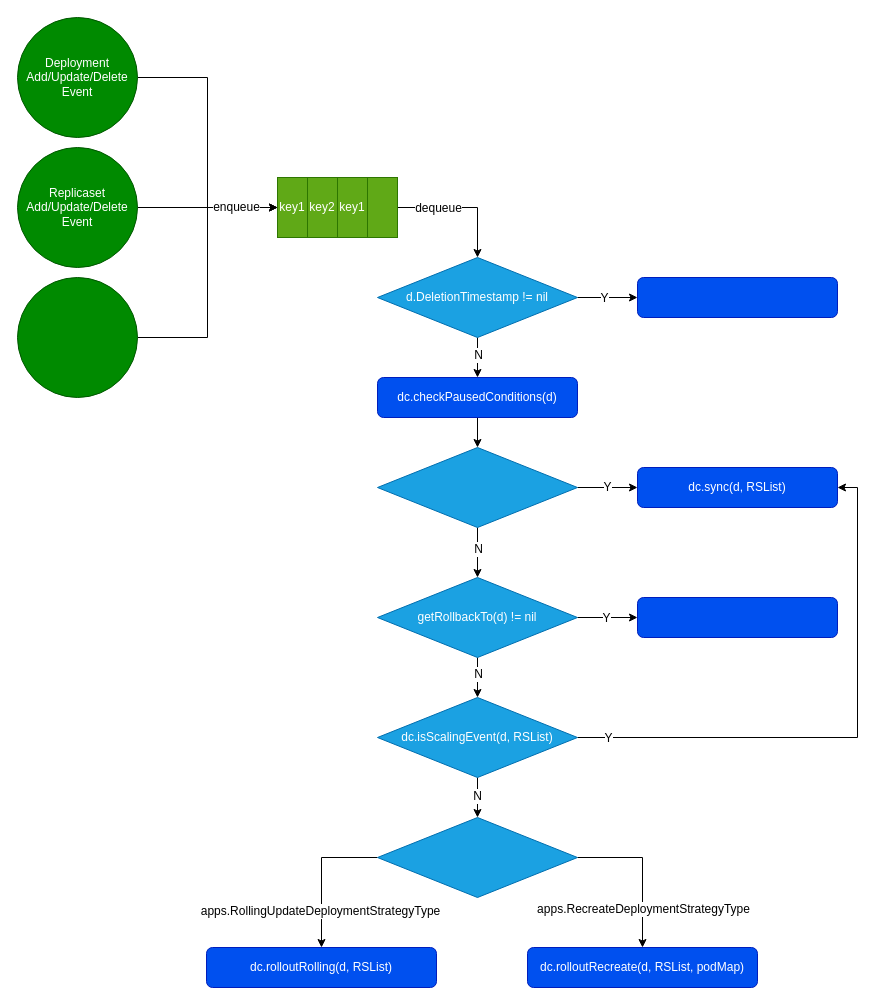
This 883x1005 diagram has some shape labels left out. The shapes that lost their labels are listed below. From the top down, each one's centre as x and y in pixels, then its label:
point (382, 207): key3
point (737, 297): dc.syncStatusOnly(d, RSList)
point (77, 337): Pod Delete Event
point (477, 487): d.Spec.Paused
point (737, 617): dc.rollback(d, RSList)
point (477, 857): d.Spec.Strategy.Type
